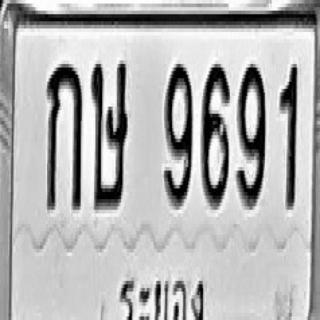A01: (46, 60, 82, 210)
A39: (90, 59, 128, 208)
N01: (279, 60, 298, 210)
N06: (201, 60, 229, 206)
N09: (163, 60, 192, 206), (237, 62, 265, 208)
P53: (117, 268, 209, 320)
